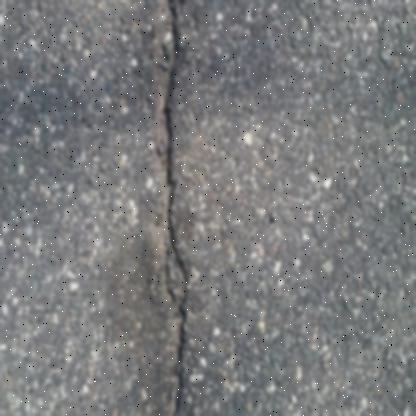Cracks: (145, 0, 196, 416)
